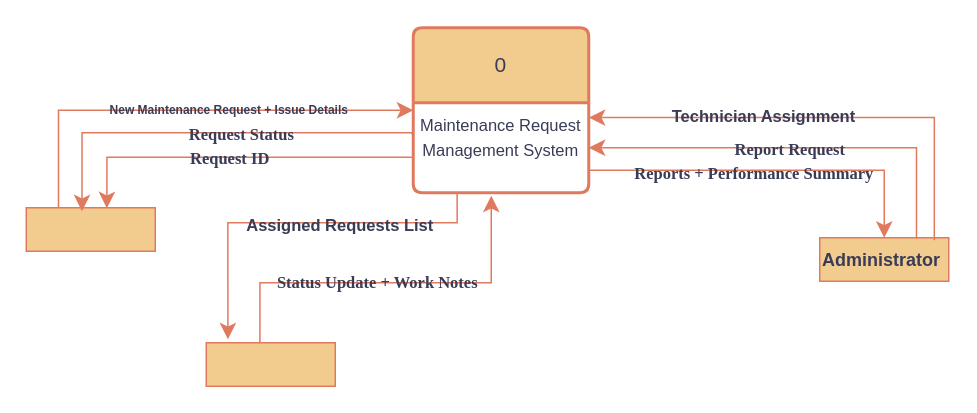
Some shapes in this 977 by 413 pixel diagram are drawn without their labels. Here are the shapes that lost their labels. From the top down, the box of each, then its label:
(25, 206, 155, 251): Requester
(205, 341, 335, 386): Technician
